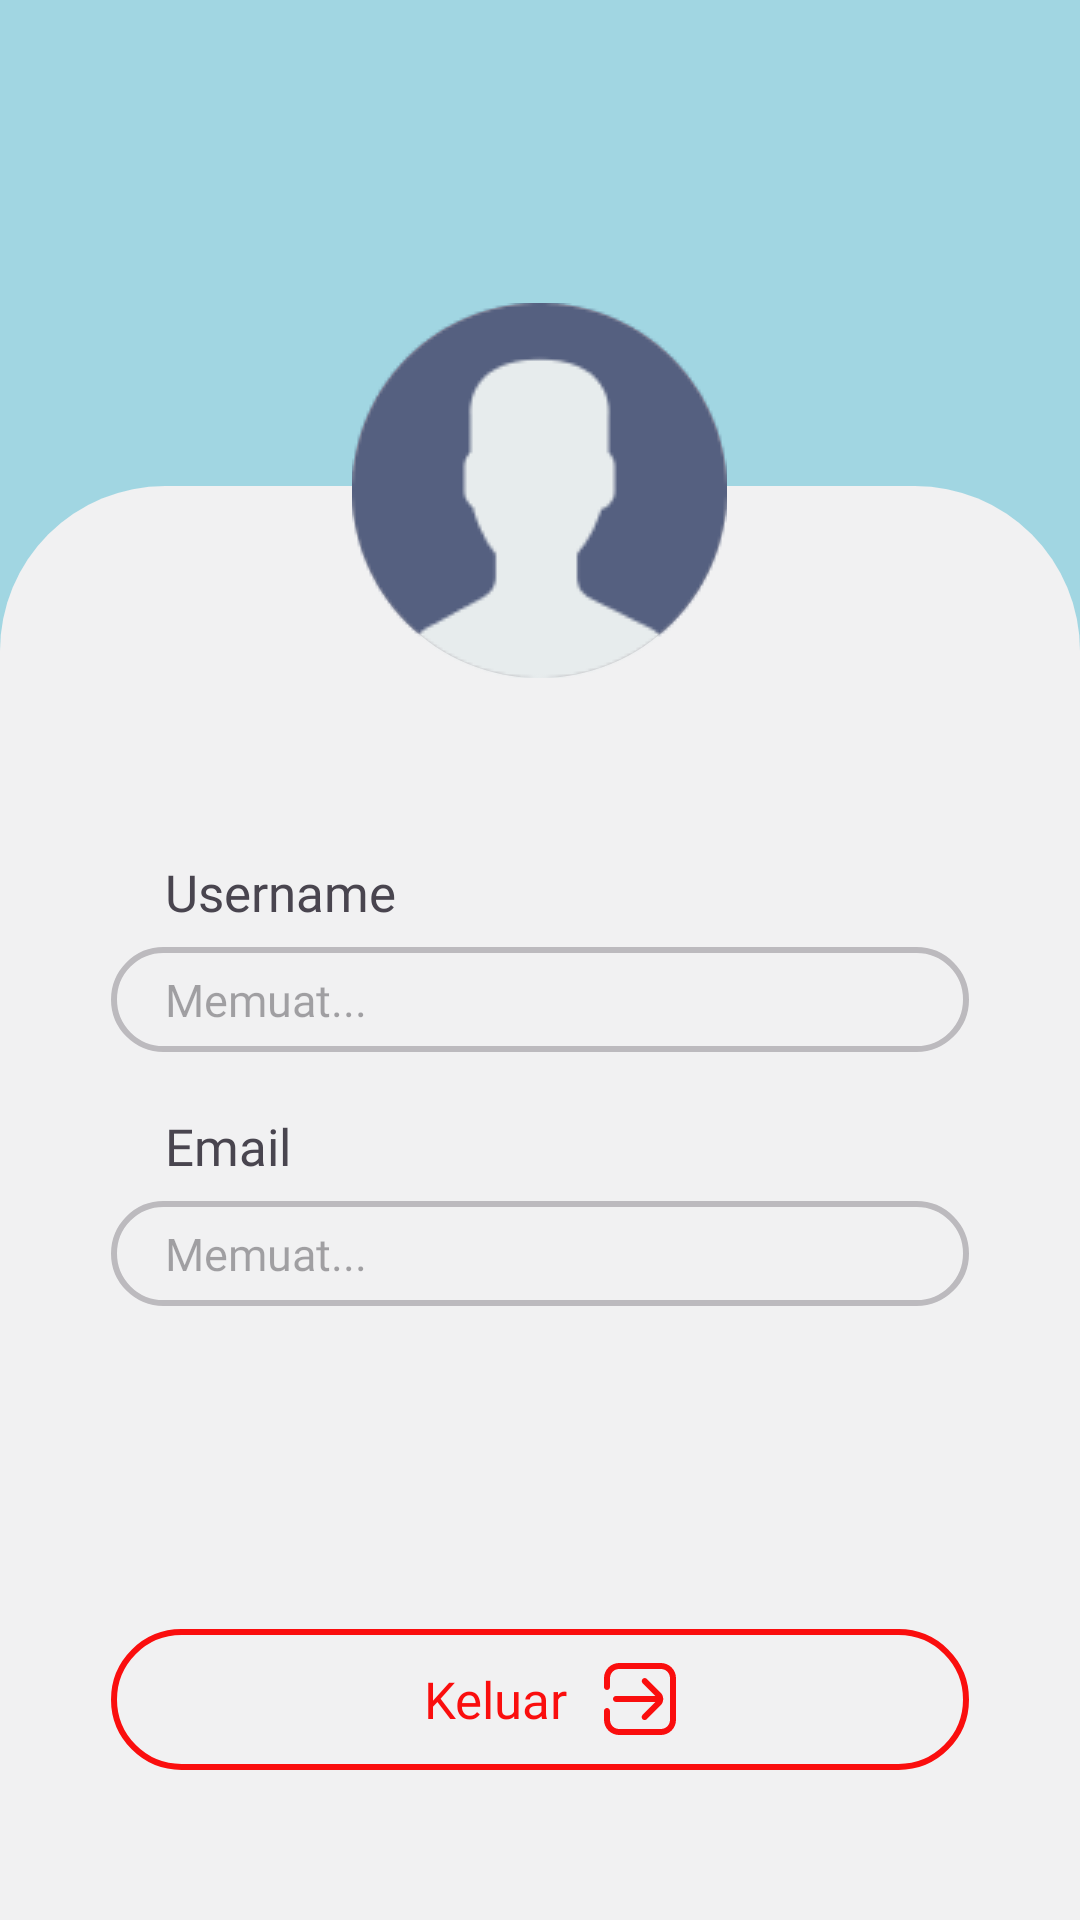

Screen size 1080x1920. Icon name, then its box in pixels as (x1, y1, x2, y2):
sign in: (604, 1663, 676, 1735)
